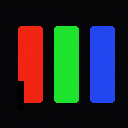4 line_v: (17, 81, 23, 109)
